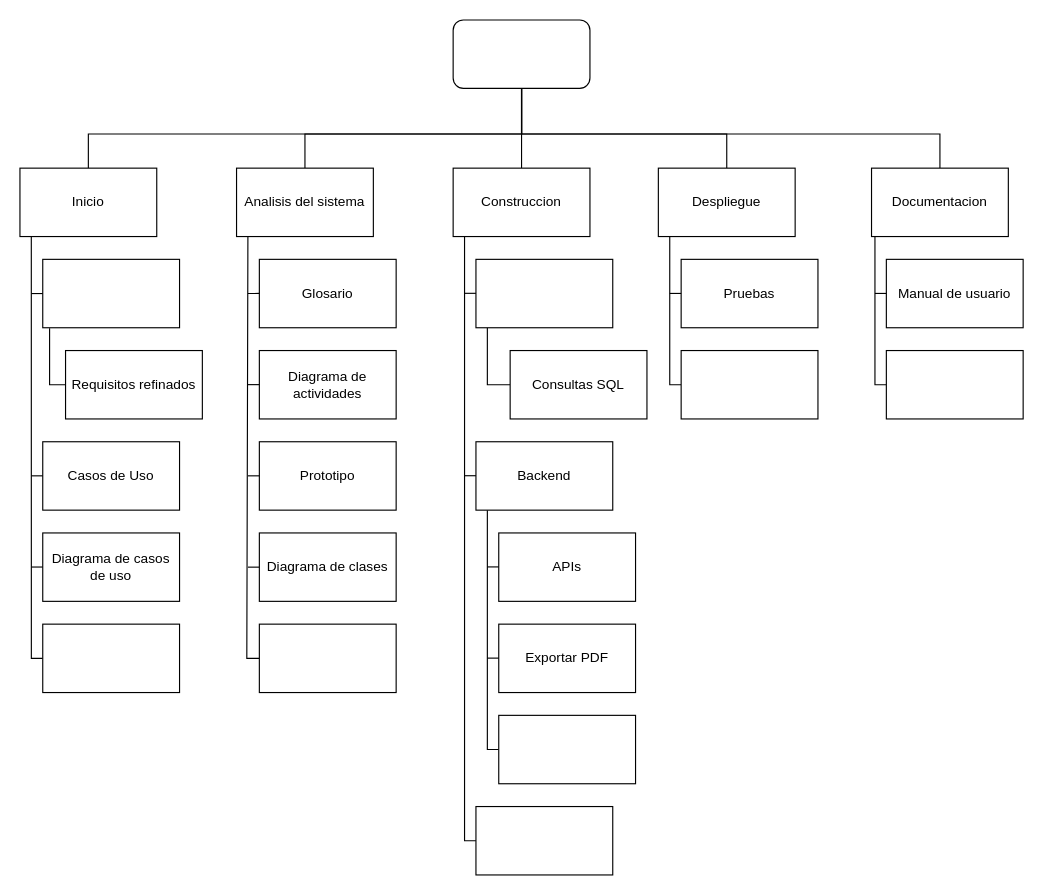
The diagram is 1043 pixels wide and 895 high, and some of its shapes have lost their labels. Each missing label, with the box of its shape:
Base de datos: (475, 258, 613, 328)
Diagrama entidad-relacion: (258, 623, 396, 693)
Extracción de requisitos: (42, 258, 180, 328)
FrontEnd: (475, 805, 613, 875)
Gestion de usuario: (498, 714, 636, 784)
Integracion: (680, 349, 818, 419)
Manual del sistema: (885, 349, 1023, 419)
Matriz de trazabilidad: (42, 623, 180, 693)
TripPlanner: (452, 19, 590, 88)
